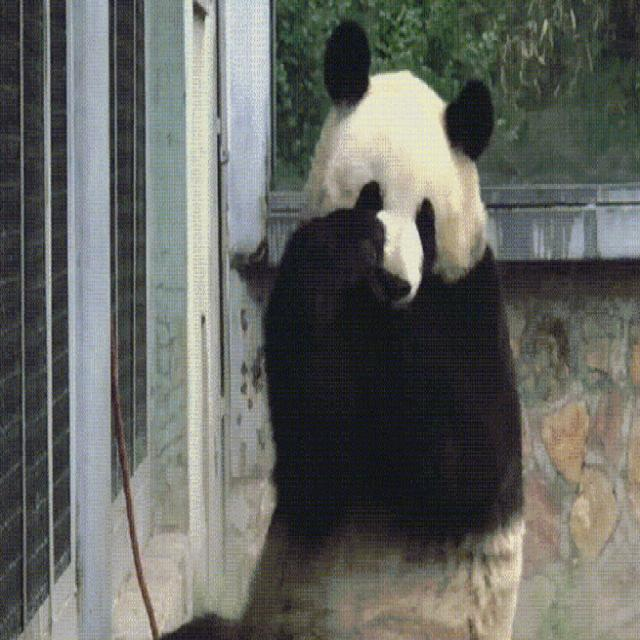panda: (239, 15, 566, 596)
